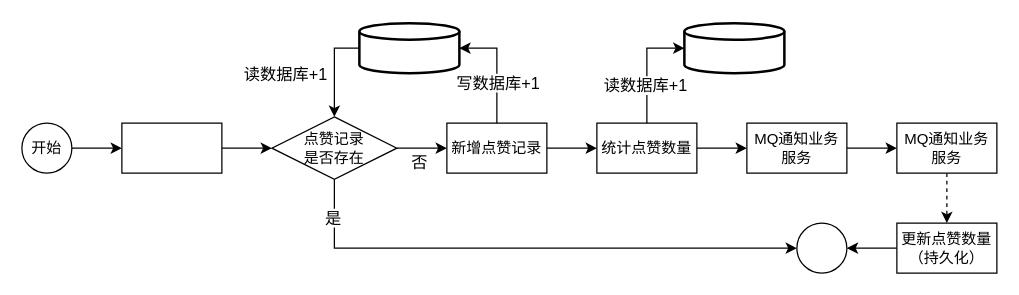
This 1019x295 diagram has some shape labels left out. Here are the shapes that lost their labels. From the top down, the centre of each, then its label:
At pixel 409 47: "点赞记录缓存".
At pixel 733 47: "点赞数量缓存".
At pixel 171 147: "提交点赞 信息".
At pixel 821 247: "结束".
